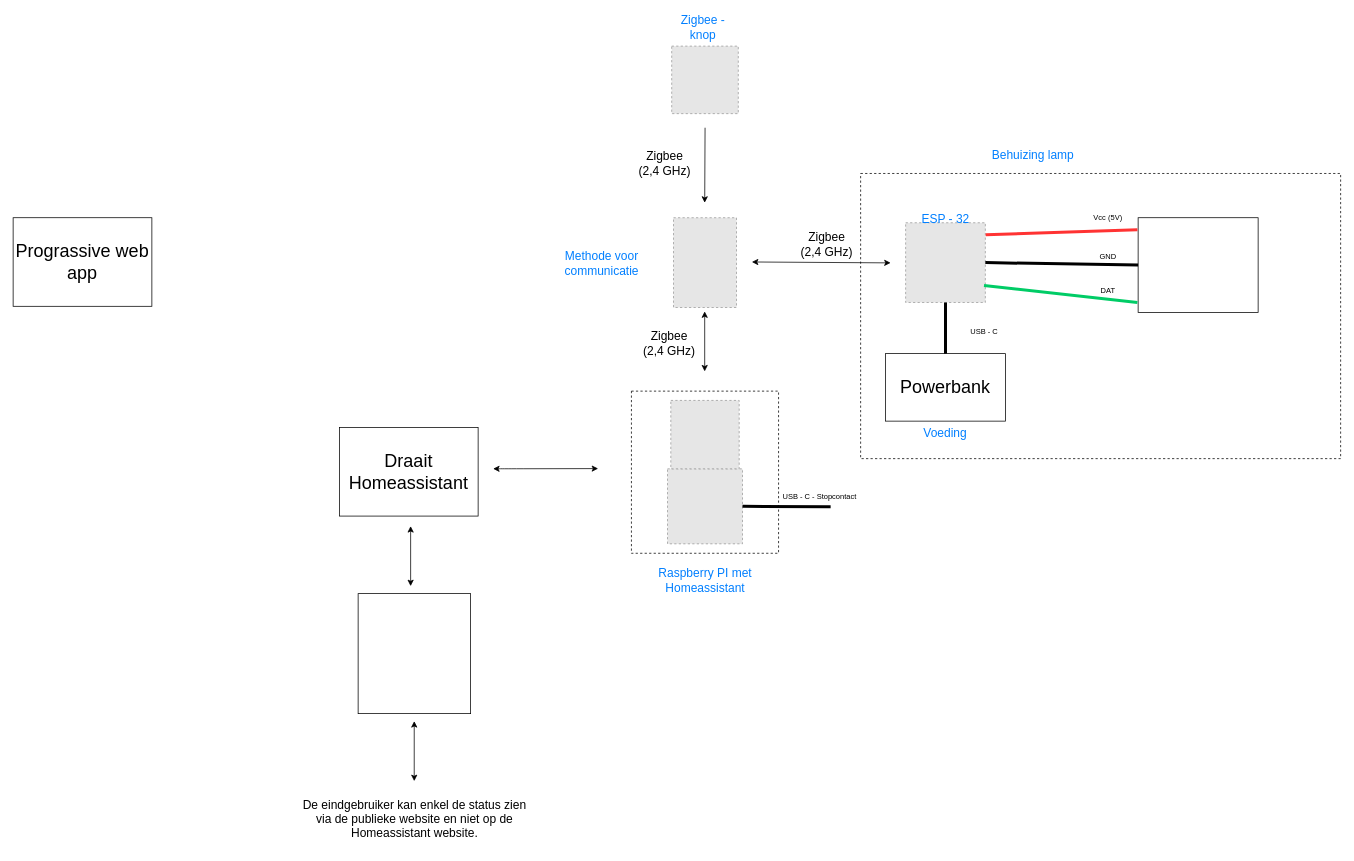
Some shapes in this 1354 by 861 pixel diagram are drawn without their labels. Grey dashed boxes stand in for pictures. Here are the shapes that lost their labels. From the top down, the centre of each, then its label:
At [1197,264]: "LED strip".
At [414,653]: "Publieke server met website".
